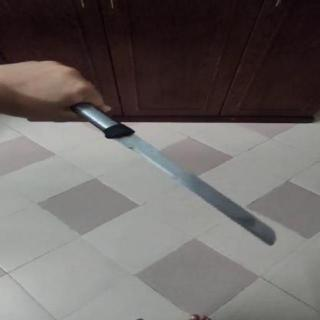knife: (101, 119, 293, 258)
